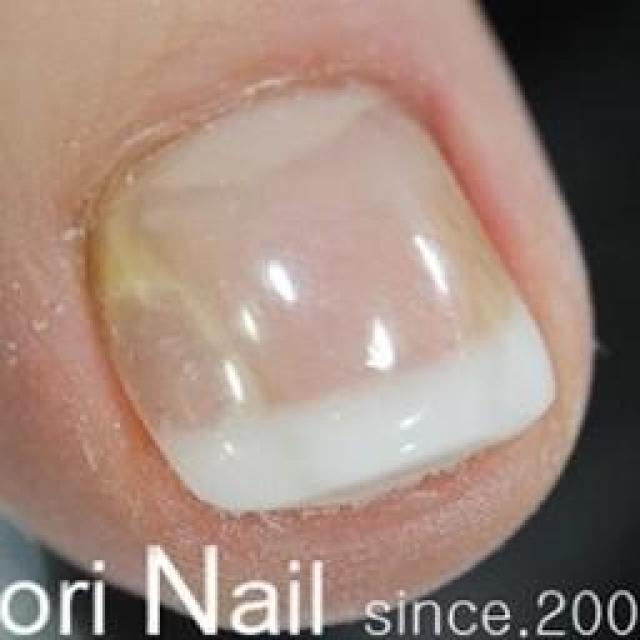Nail: (91, 79, 564, 515)
